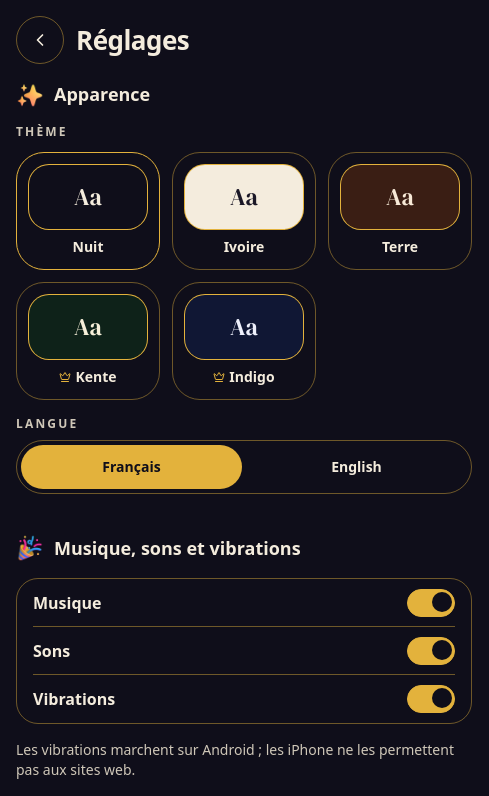
Test: with age confirmed › switching the language in the settings translates the app
Click the radio button labelled "English".
click(356, 466)  # box [331,457,382,476]
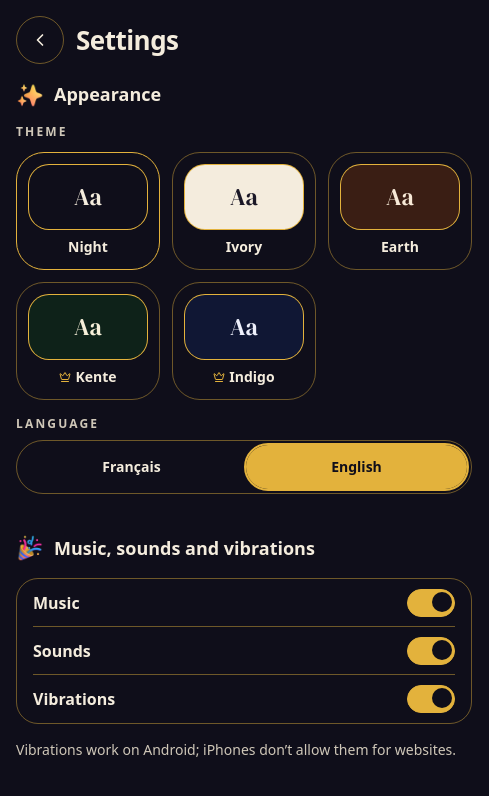
Check: the heading "Settings" is shown, box [76,22,178,58]
